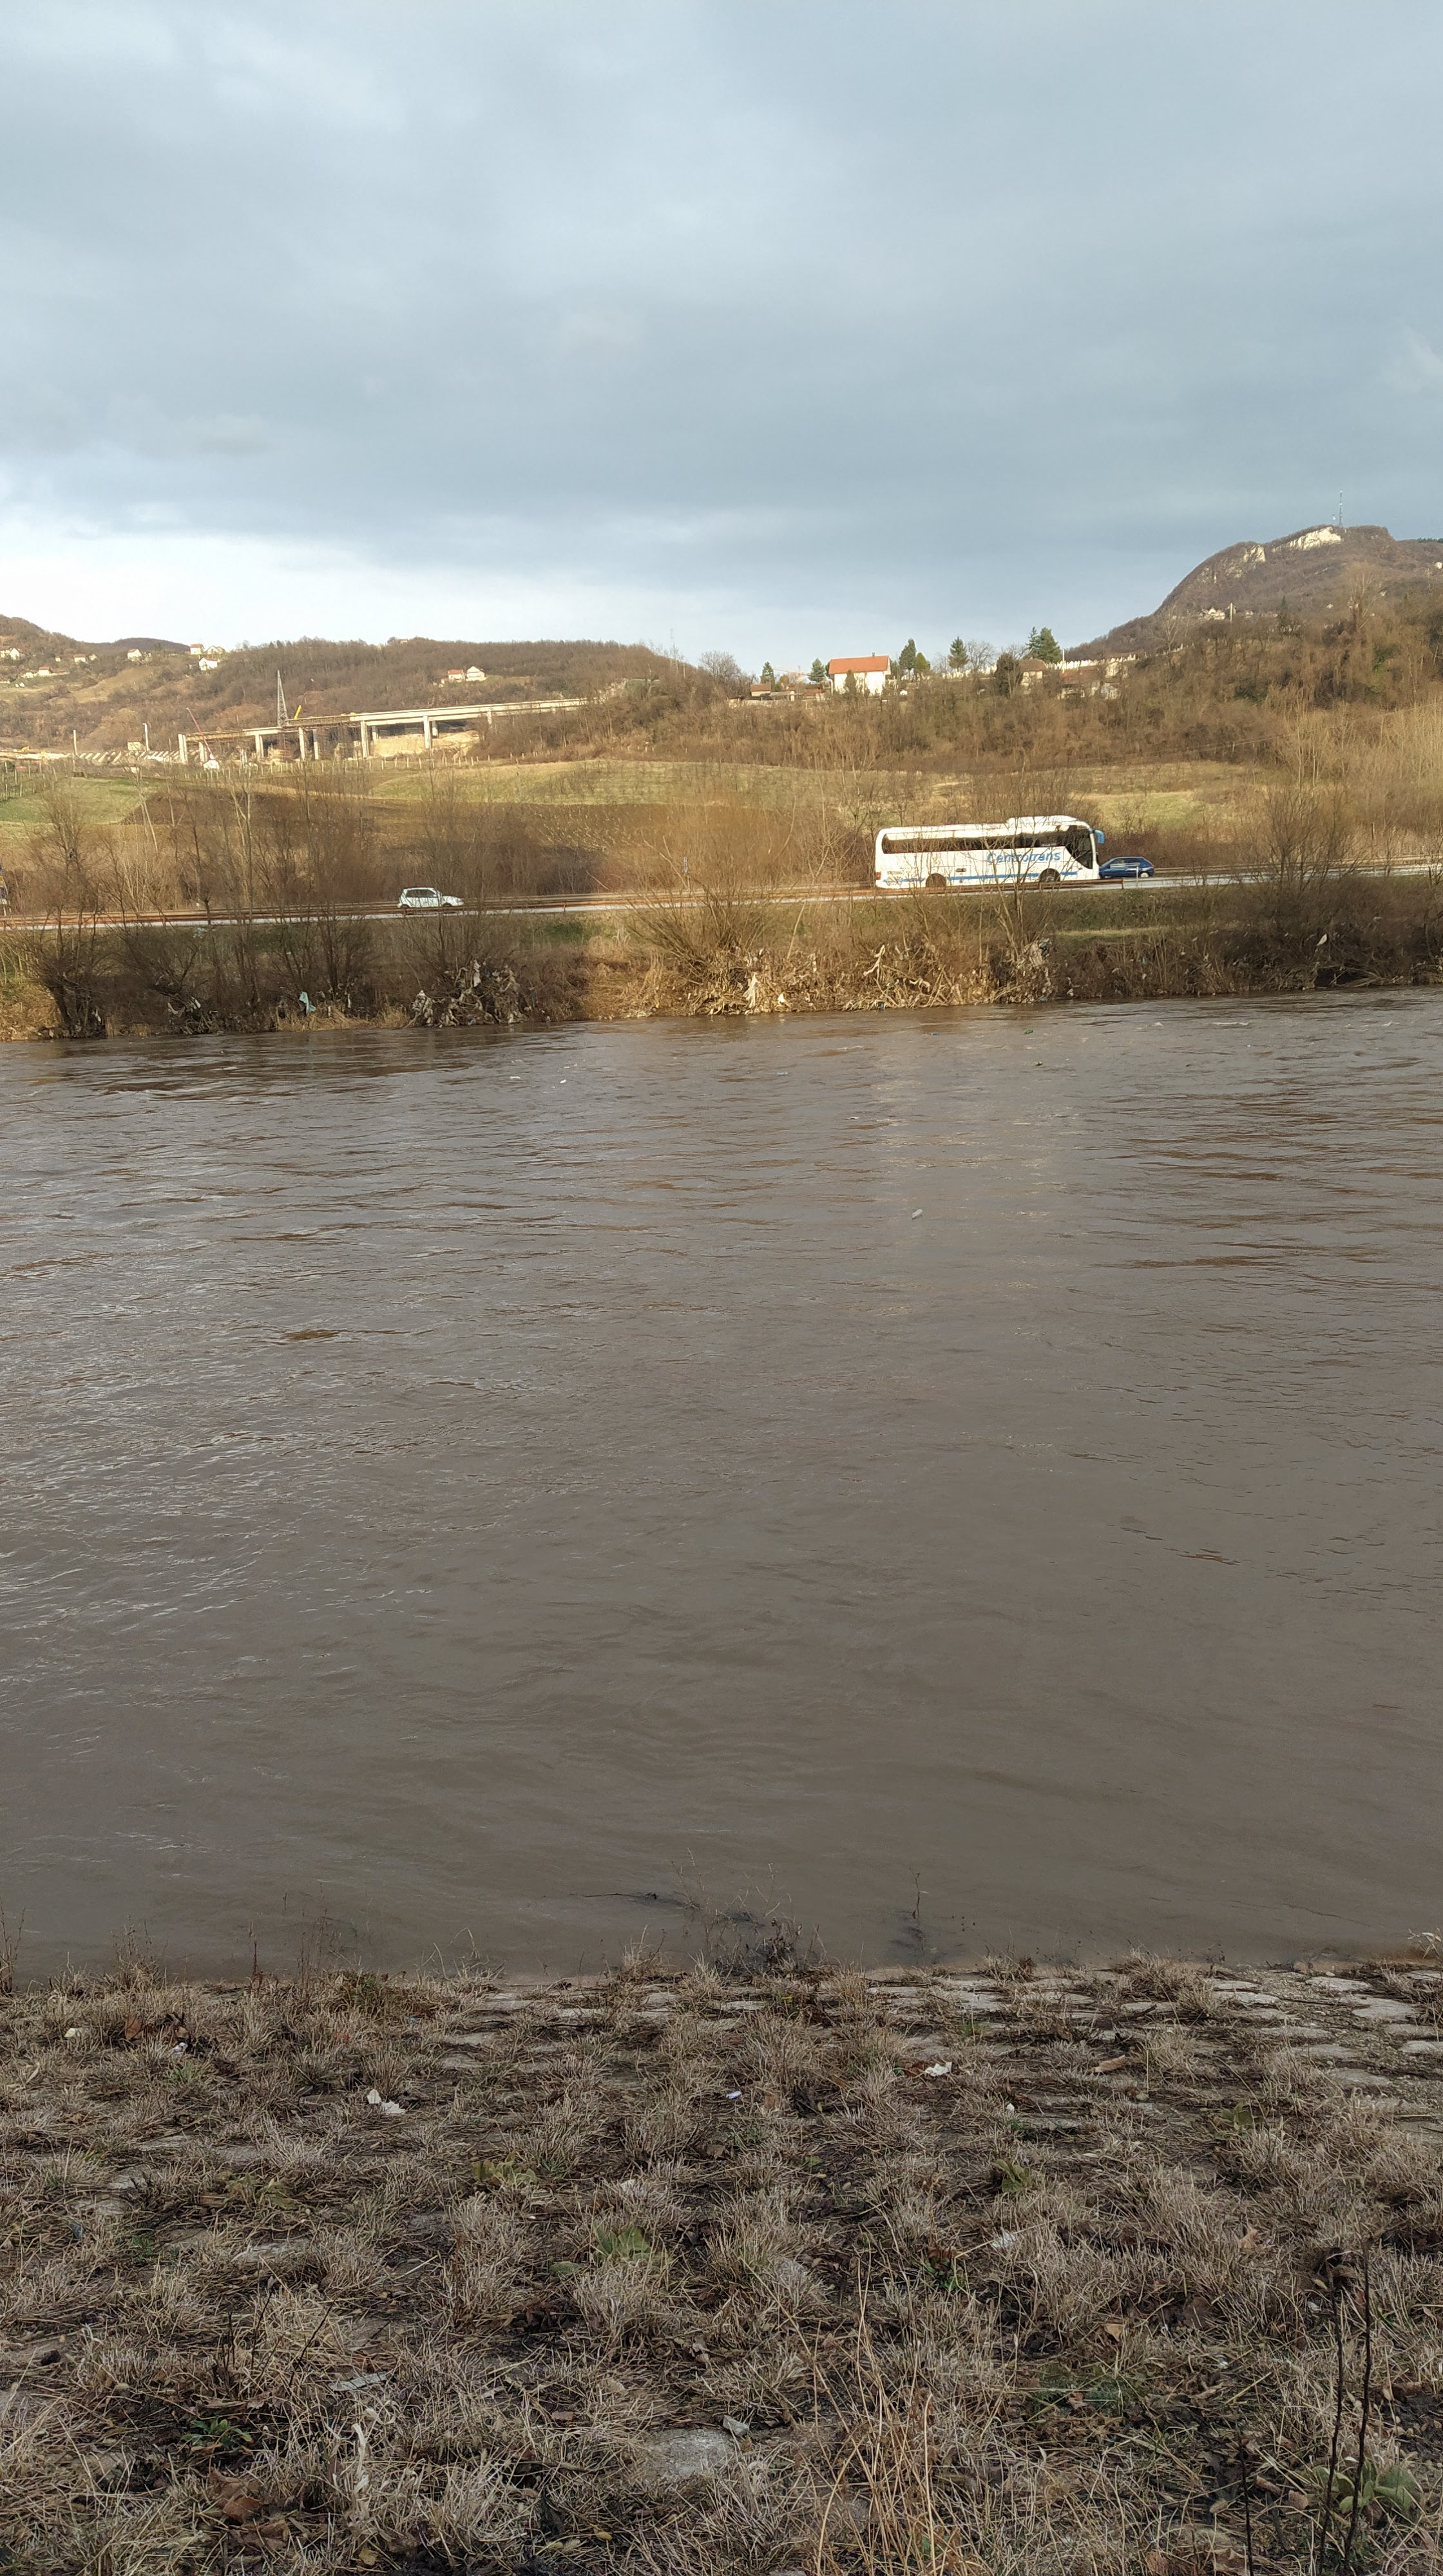Plastic Bottle: (912, 1208, 922, 1219), (776, 1070, 786, 1076), (510, 1076, 521, 1079), (1025, 1030, 1034, 1033), (559, 1079, 565, 1085), (931, 1031, 937, 1035)
